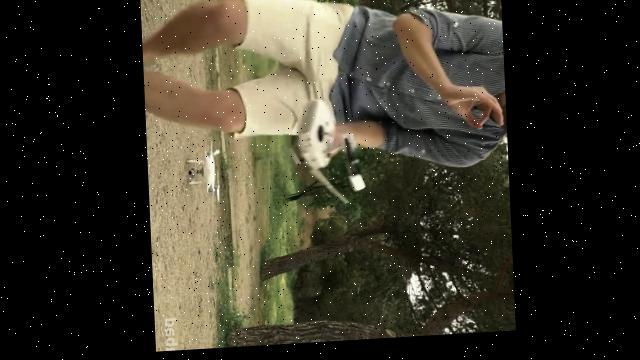drone: (183, 140, 221, 206)
